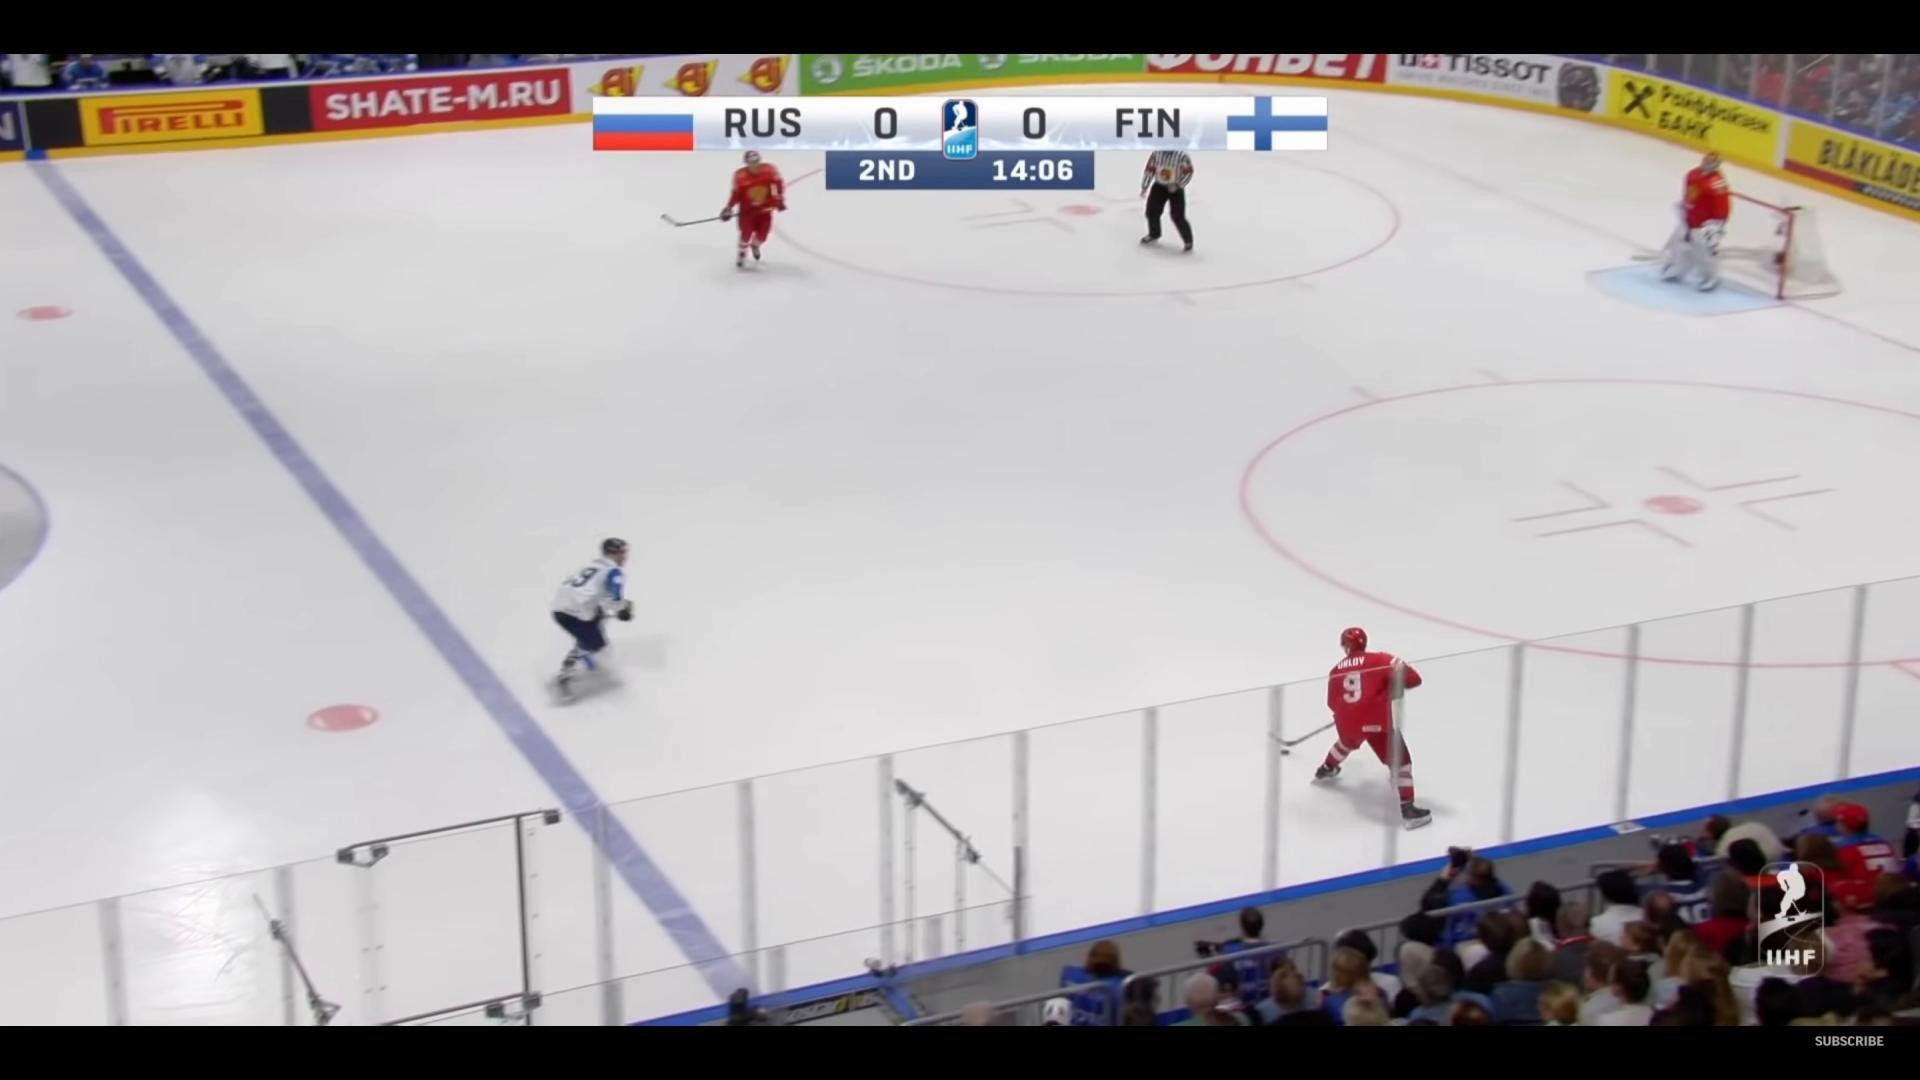puck: (1279, 748, 1290, 756)
